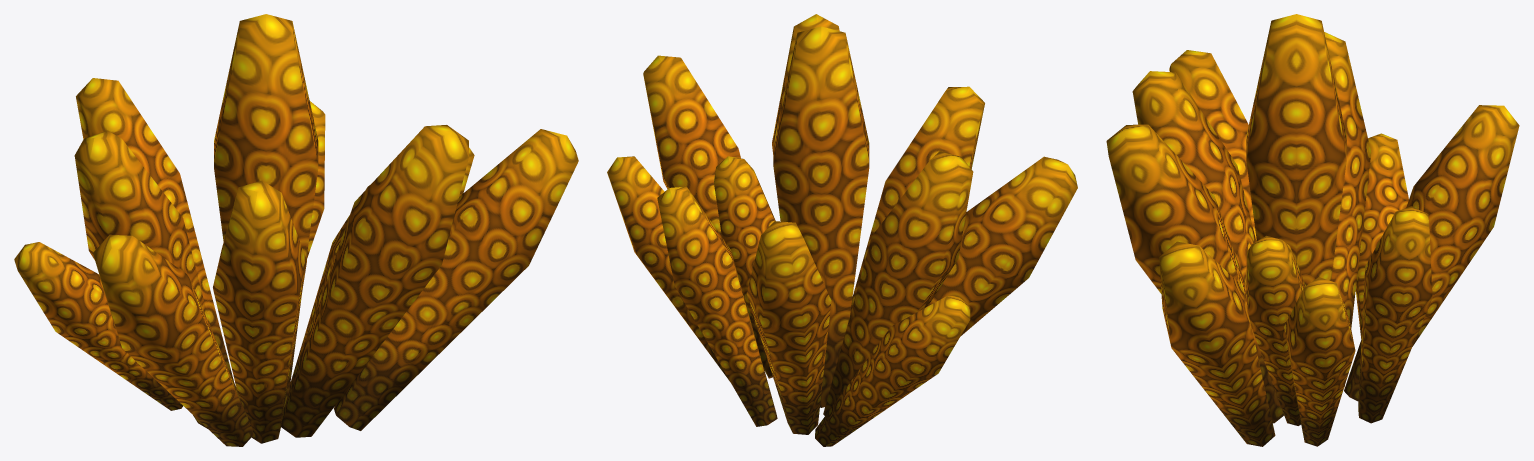
Rendered from Coral_05c.FBX.
The picture shows the model from 3 angles, left to right: view 1: azimuth 30°, elevation 25°; view 2: azimuth 150°, elevation 25°; view 3: azimuth 270°, elevation 25°; orthographic projection. The views are drawn at different scales.
Visible parts, largest first — view 1: Coral_05c; view 2: Coral_05c; view 3: Coral_05c.
Part boxes in pixels (x1,y1,x2,y2): Coral_05c: (14, 14, 578, 446); Coral_05c: (607, 14, 1077, 446); Coral_05c: (1106, 14, 1519, 446).
Bounding box in the file's own units: 53.08 × 44.44 × 41.69.
